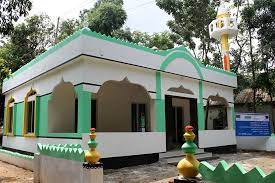Mosque: (3, 7, 243, 166)
